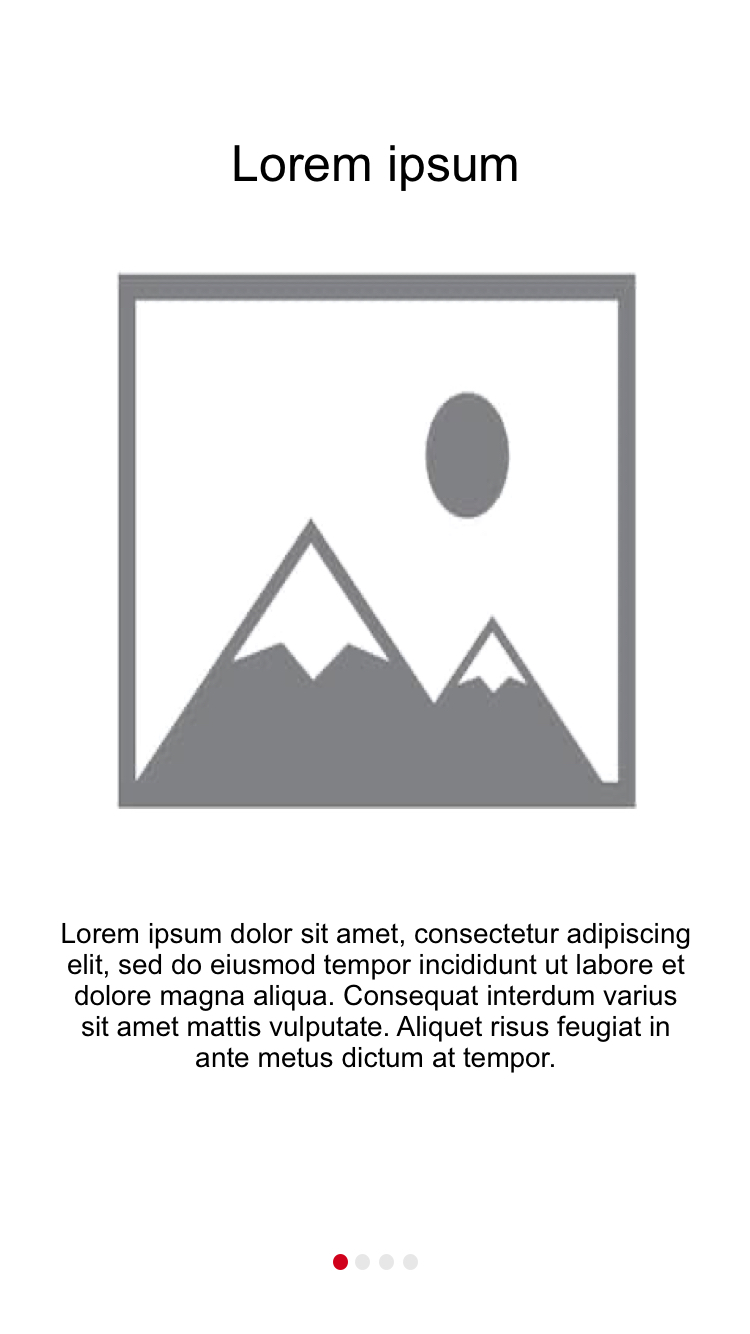Image: (118, 273, 638, 810)
PageIndicator: (333, 1252, 420, 1271)
Text: (62, 922, 691, 1074), (233, 145, 518, 193)
